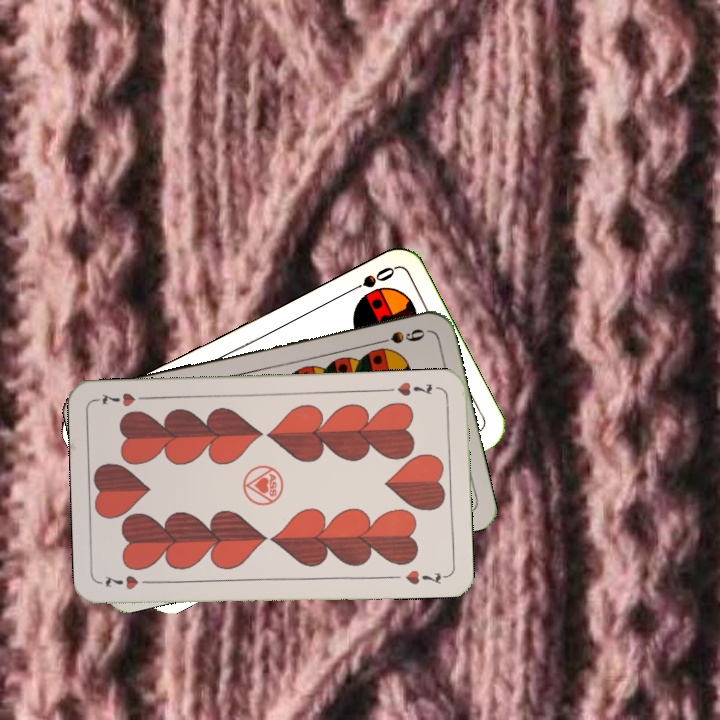H7: (101, 571, 157, 593), (393, 378, 435, 399)
S9: (370, 324, 428, 348)
SO: (342, 262, 397, 297)
